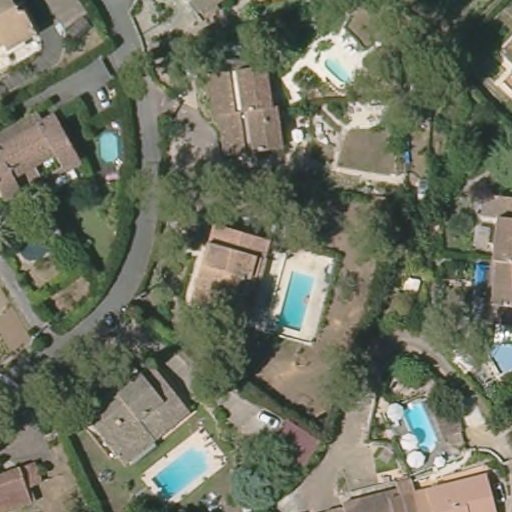pool: (139, 445, 209, 496), (275, 267, 320, 334), (397, 399, 441, 453), (93, 125, 124, 168), (320, 52, 357, 85), (473, 259, 490, 311)
